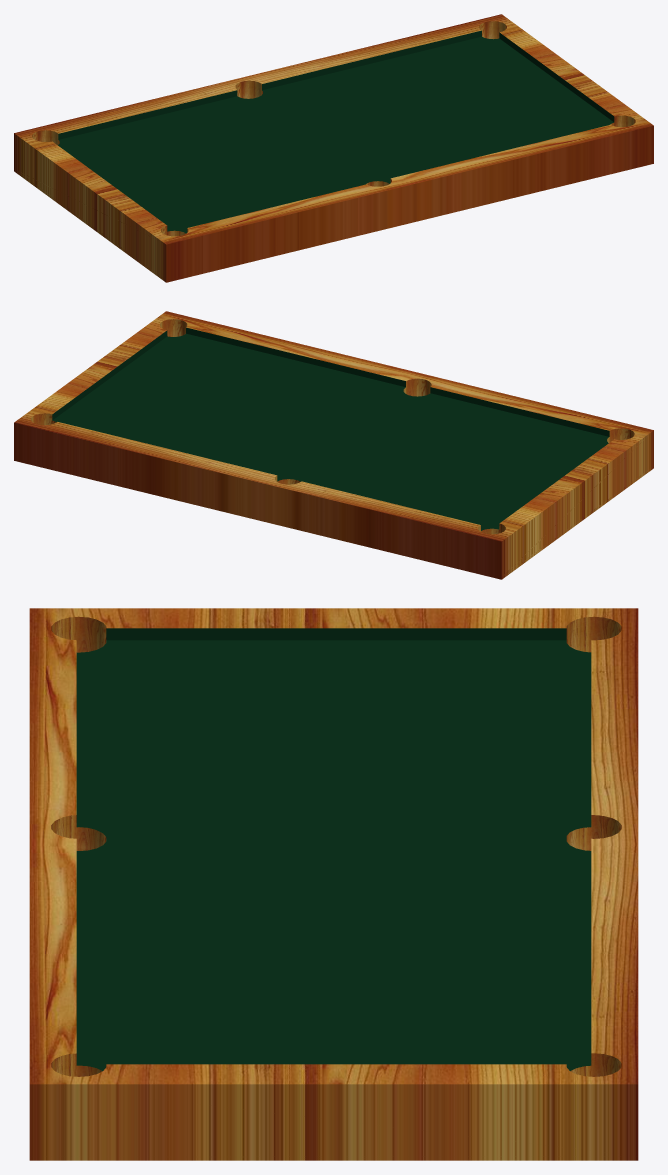
The model's file is table.FBX.
3 views of the same model, one above another, from view 1: azimuth 30°, elevation 25°; view 2: azimuth 150°, elevation 25°; view 3: azimuth 270°, elevation 25° (orthographic). The views are drawn at different scales.
Parts seen in each view (by area): view 1: Box001; view 2: Box001; view 3: Box001.
Boxes of the visible parts, x1,y1,x2,y2 form: Box001: (14,14,653,282); Box001: (14,311,653,579); Box001: (29,608,638,1160).
Bounding box in the file's own units: 3076 × 230 × 1663.
2 materials, 1 textured.
